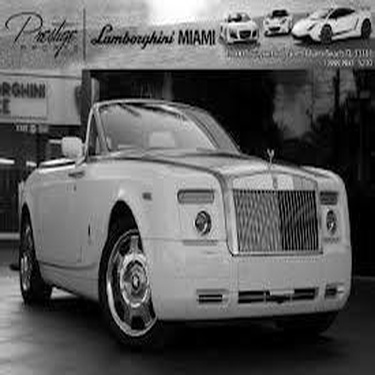car: (15, 90, 360, 354), (286, 6, 373, 46), (213, 9, 258, 46), (260, 5, 295, 38)
